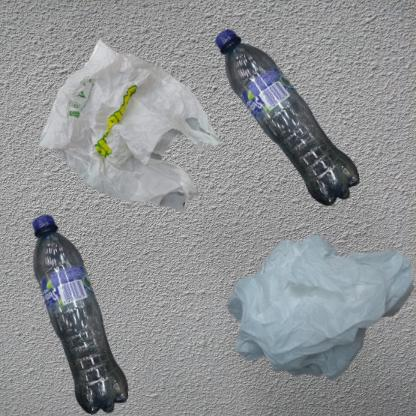bolsa: (10, 10, 254, 262), (213, 213, 416, 412)
botella: (213, 10, 375, 239), (10, 213, 155, 416)
